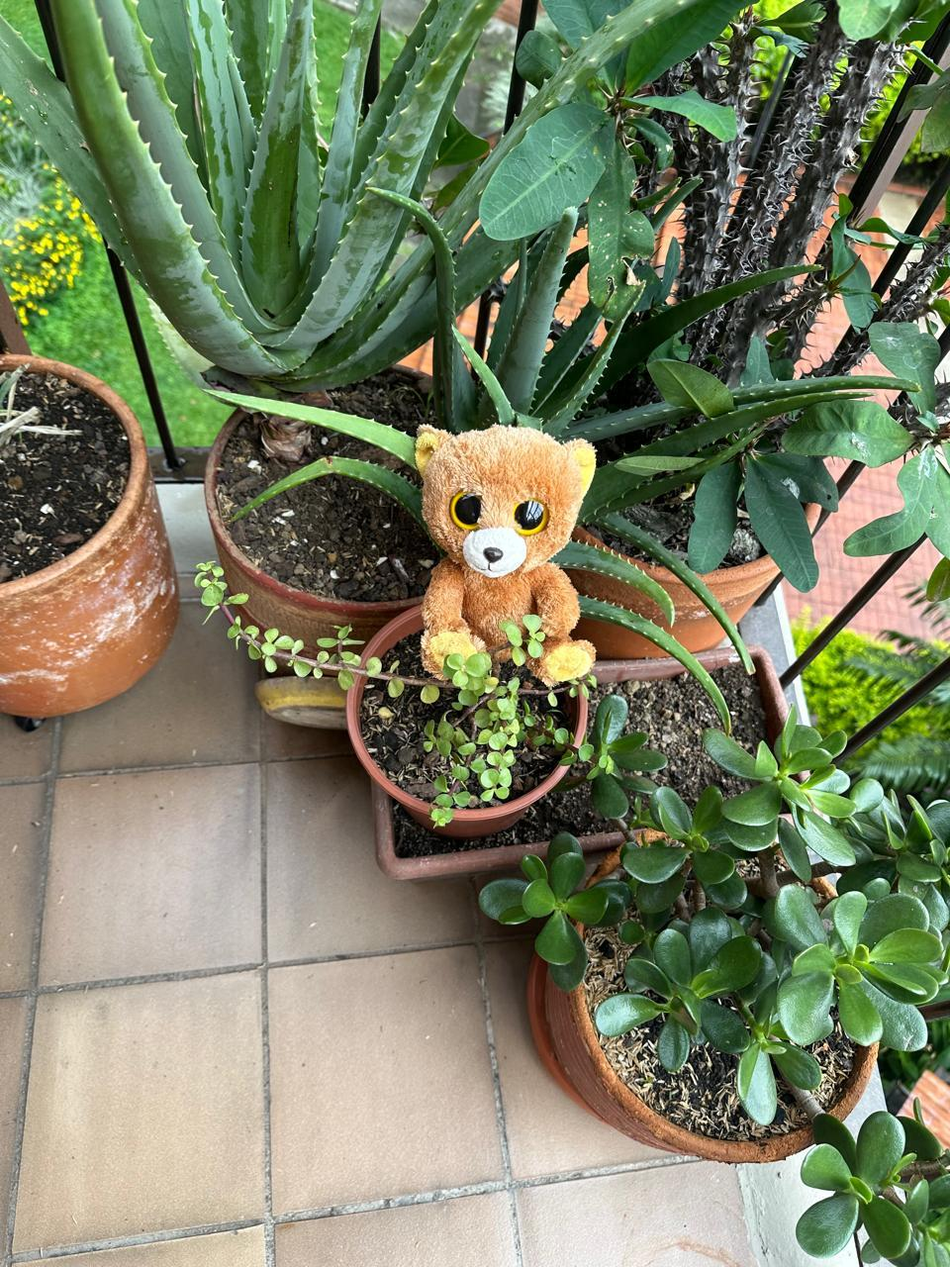peluche_sebastian: (411, 421, 604, 703)
